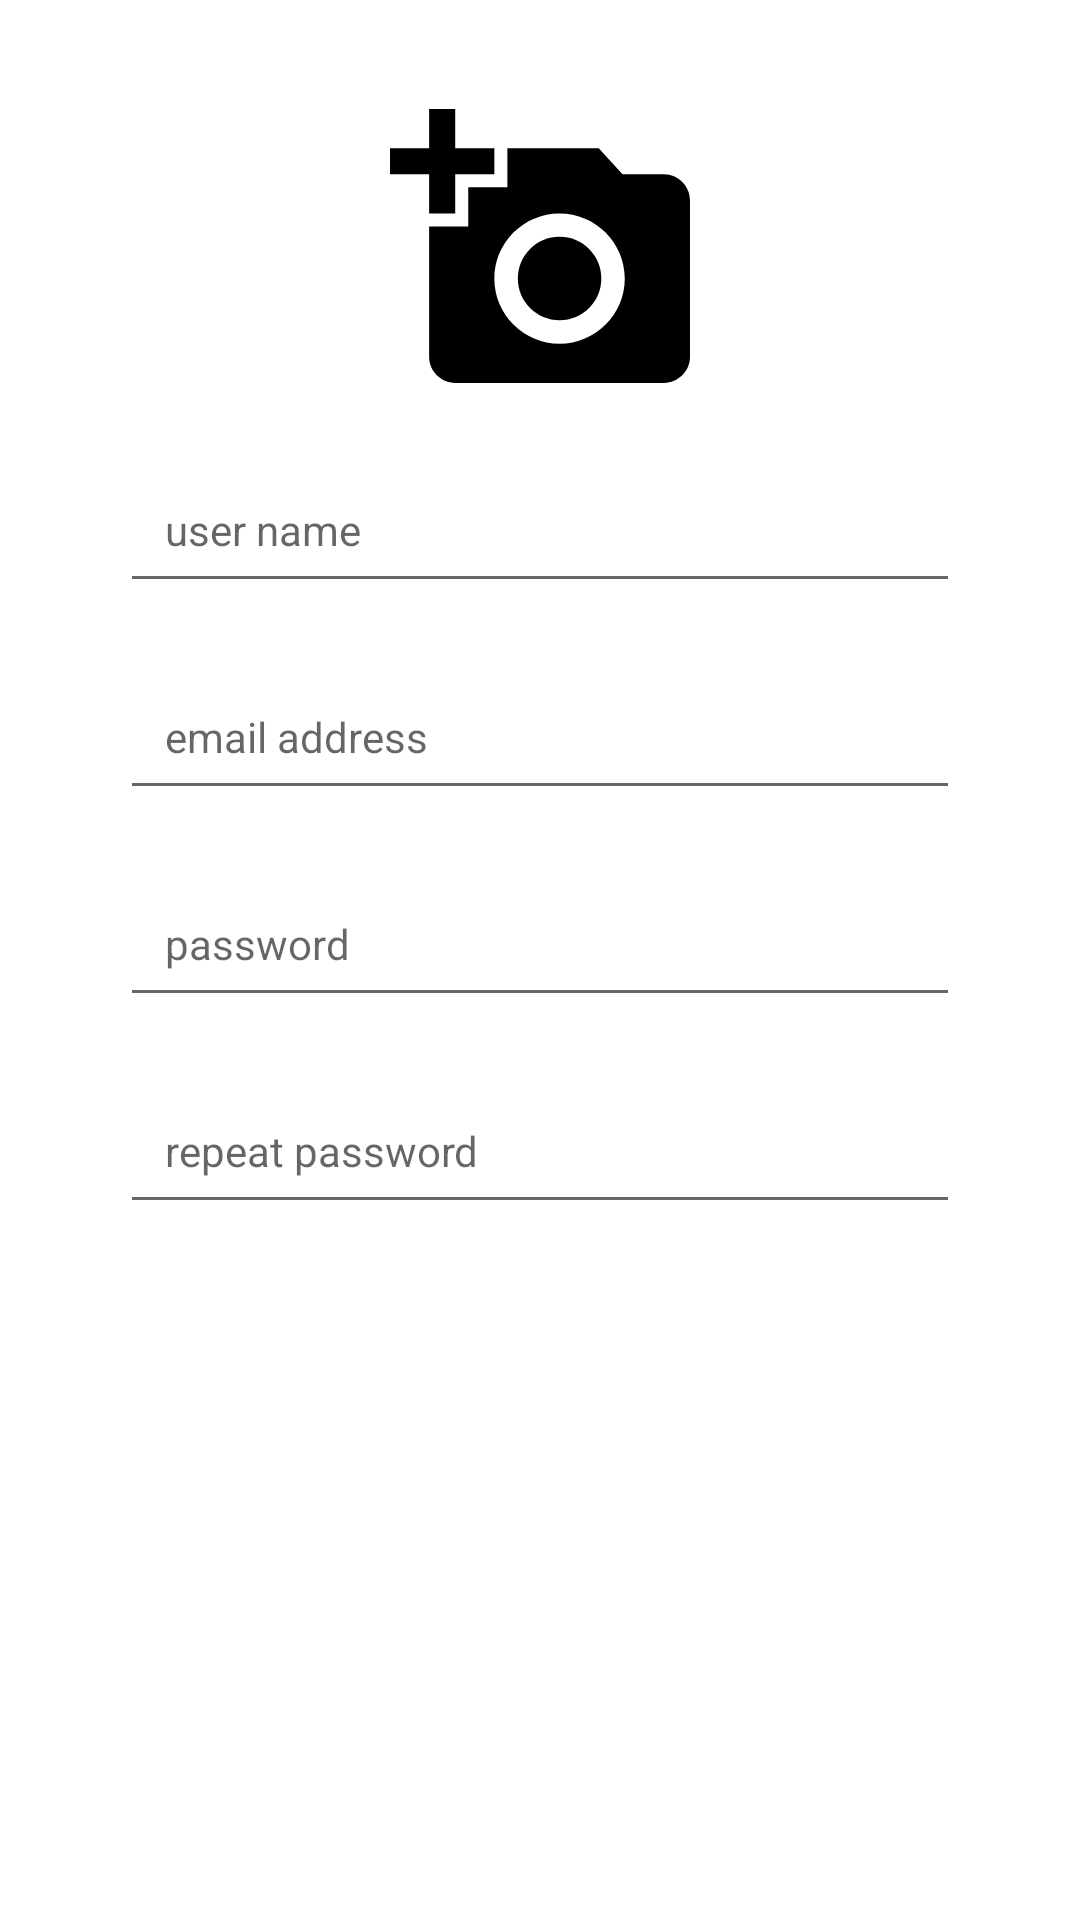

Named icons in this screenshot (1080px×1920px) and their centers, point (x, y):
camera: point (540, 246)
